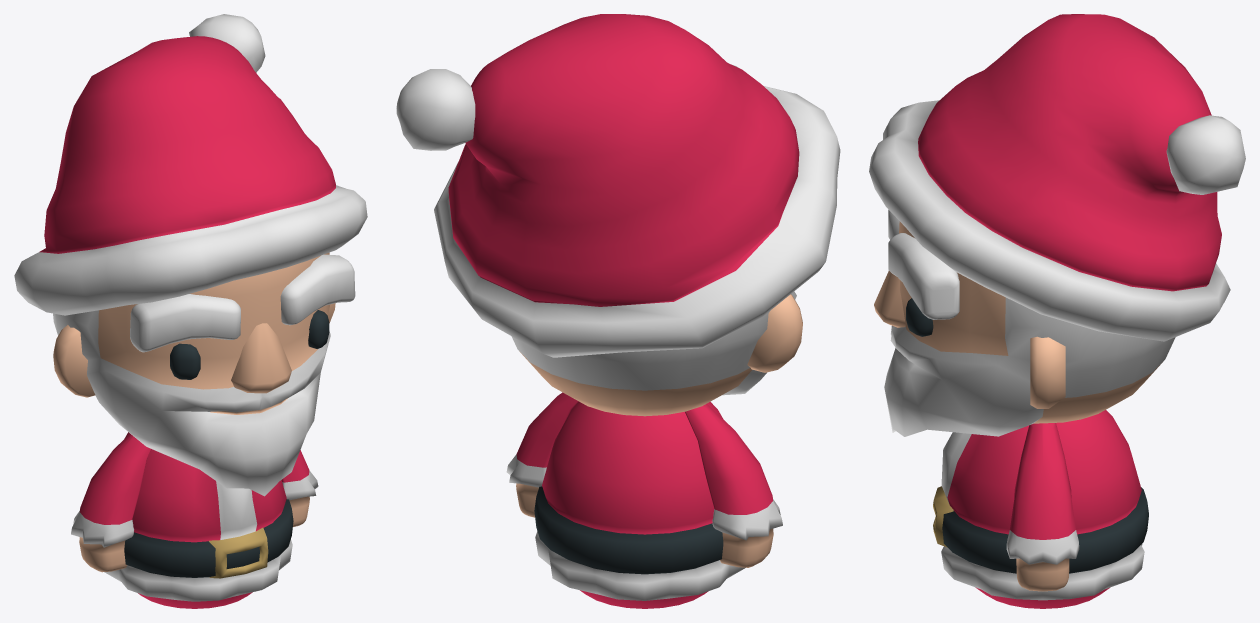
The model's file is character_santa.gltf.
3 renders of one model, left to right at view 1: azimuth 30°, elevation 25°; view 2: azimuth 150°, elevation 25°; view 3: azimuth 270°, elevation 25°, orthographic. The views are drawn at different scales.
Parts seen in each view (by area): view 1: character_santaHead, character_santaBody, character_santaArmRight, character_santaArmLeft; view 2: character_santaHead, character_santaBody, character_santaArmRight, character_santaArmLeft; view 3: character_santaHead, character_santaBody, character_santaArmLeft.
Boxes of the visible parts, box(x1,y1,x2,y2) form: character_santaHead: box(14, 14, 367, 496); character_santaBody: box(104, 432, 293, 608); character_santaArmRight: box(71, 433, 151, 572); character_santaArmLeft: box(281, 450, 318, 526); character_santaHead: box(396, 14, 840, 416); character_santaBody: box(534, 401, 745, 608); character_santaArmRight: box(685, 403, 782, 567); character_santaArmLeft: box(506, 392, 578, 517); character_santaHead: box(869, 14, 1245, 436); character_santaBody: box(933, 410, 1148, 608); character_santaArmLeft: box(1006, 423, 1079, 591).
Size of the model in its own units: 1.35 by 2.08 by 1.29.
